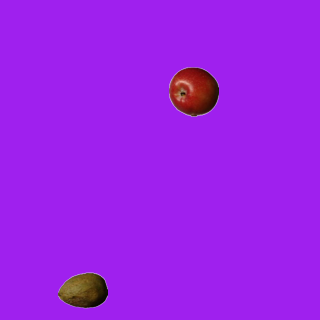Apple Braeburn: (168, 66, 218, 116)
Papaya: (57, 265, 107, 315)
